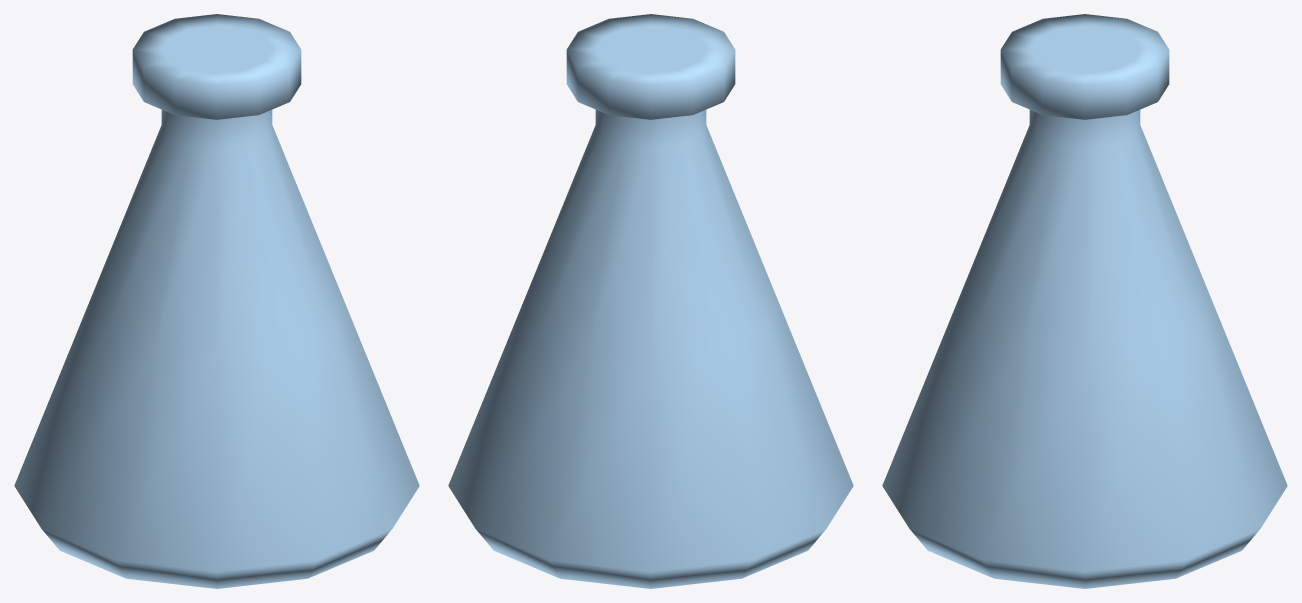
The model's file is Flask_Colored_03.fbx.
3 views of the same model, side by side, from view 1: azimuth 30°, elevation 25°; view 2: azimuth 150°, elevation 25°; view 3: azimuth 270°, elevation 25° (orthographic).
Parts seen in each view (by area): view 1: Flask; view 2: Flask; view 3: Flask.
Part boxes in pixels (x1,y1,x2,y2): Flask: [14, 14, 419, 588]; Flask: [448, 14, 853, 588]; Flask: [882, 14, 1287, 588].
Size of the model in its own units: 55.69 by 70.1 by 55.69.
